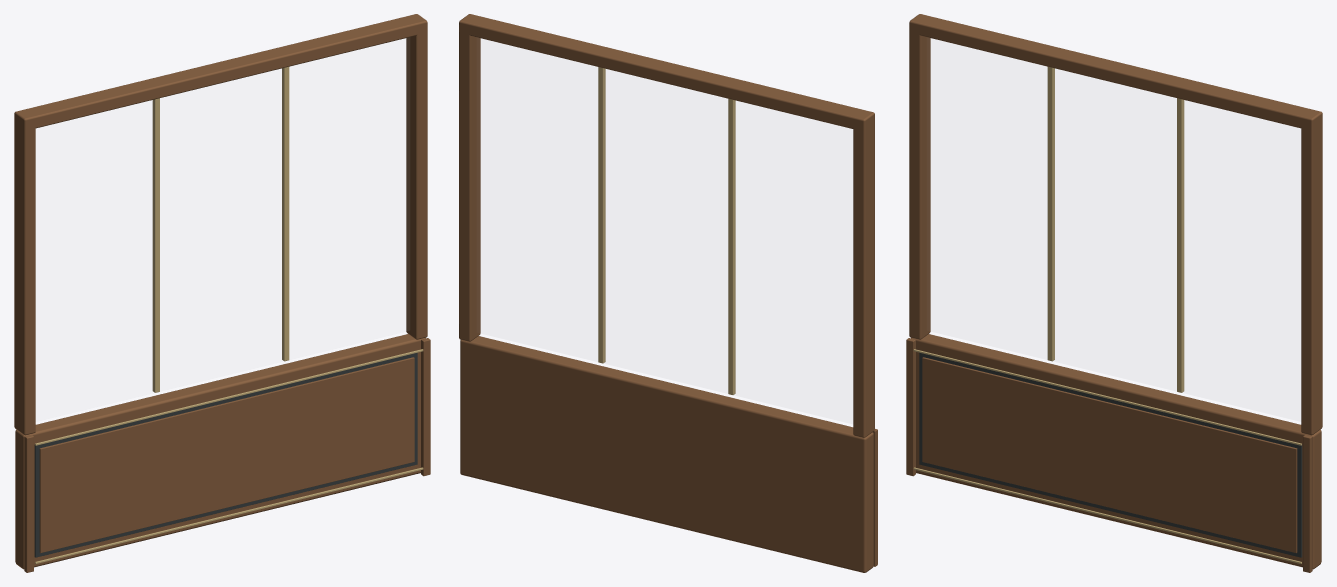
The model's file is city-courthouse-and-records-office-city-courthouse-and-3726c235__30952.glb.
The picture shows the model from 3 angles, left to right: view 1: azimuth 30°, elevation 25°; view 2: azimuth 150°, elevation 25°; view 3: azimuth 330°, elevation 25°; orthographic projection.
Parts seen in each view (by area): view 1: city-courthouse-and-records-office-courtroom-partition-bay; view 2: city-courthouse-and-records-office-courtroom-partition-bay; view 3: city-courthouse-and-records-office-courtroom-partition-bay.
Part boxes in pixels (x1=…): city-courthouse-and-records-office-courtroom-partition-bay: x1=14, y1=14, x2=430, y2=572; city-courthouse-and-records-office-courtroom-partition-bay: x1=459, y1=14, x2=877, y2=572; city-courthouse-and-records-office-courtroom-partition-bay: x1=906, y1=14, x2=1322, y2=572.
Size of the model in its own units: 3 by 3.21 by 0.182.
